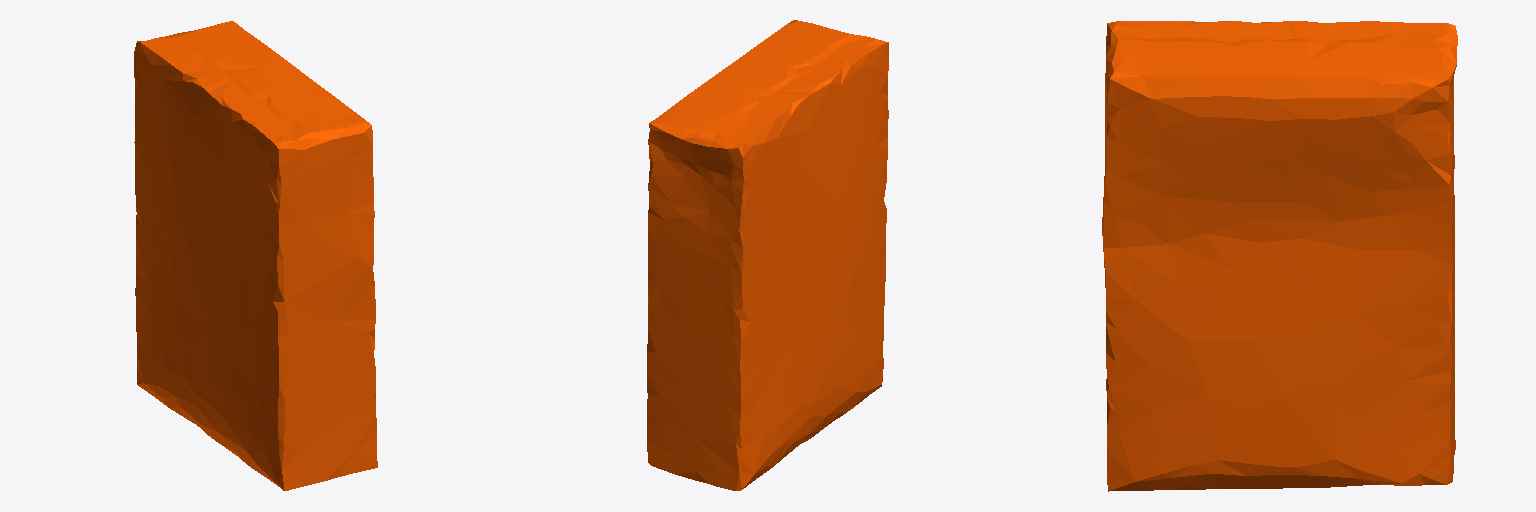
robot.urdf — 003_cracker_box:
<?xml version="1.0" ?>
<robot name="003_cracker_box">
   <material name="obj_color">
      <color rgba="1.0 0.423529411765 0.0392156862745 1.0"/>
   </material>
   <link name="top">
      <inertial>
         <origin rpy="0.0006040312572868979 0.001016337309011732 0.001447824631265488" xyz="-0.00252437242035967 -0.001755391139972788 -0.006070878990495147"/>
         <mass value="0.24875"/>
         <inertia ixx="0.001447724155100618" ixy="-2.001262632872254e-07" ixz="9.203997623671298e-06" iyy="0.001016316710181851" iyz="2.916835980718757e-06" izz="0.0006041523322816491"/>
      </inertial>
      <visual>
         <origin rpy="0 0 0" xyz="0 0 0"/>
         <geometry>
            <mesh filename="top_watertight_tiny.stl" scale="1 1 1"/>
         </geometry>
         <material name="obj_color"/>
      </visual>
      <collision>
         <origin rpy="0 0 0" xyz="0 0 0"/>
         <geometry>
            <mesh filename="top_watertight_tiny.obj" scale="1 1 1"/>
         </geometry>
      </collision>
   </link>
   <link name="bottom">
      <inertial>
         <origin rpy="1.633333333199431e-08 1.633333333199431e-08 1.633333333362855e-08" xyz="0.3464080000000008 0.3464080000000008 0.3464080000000008"/>
         <mass value="0.0009800000000000017"/>
         <inertia ixx="1.633333333253906e-08" ixy="5.447480642029219e-19" ixz="5.447480642029219e-19" iyy="1.633333333253906e-08" iyz="5.447480642029219e-19" izz="1.633333333253906e-08"/>
      </inertial>
      <visual>
         <origin rpy="0 0 0" xyz="0 0 0"/>
         <geometry>
            <mesh filename="bottom_watertight_tiny.stl" scale="1 1 1"/>
         </geometry>
         <material name="obj_color"/>
      </visual>
   </link>
   <link name="world"/>
   <joint name="world_to_base" type="fixed">
      <origin xyz="0 0 0"/>
      <axis xyz="0 0 0"/>
      <parent link="world"/>
      <child link="bottom"/>
   </joint>
   <joint name="rotation" type="revolute">
      <origin xyz="0 0 0"/>
      <axis xyz="0 0 -1"/>
      <parent link="bottom"/>
      <child link="top"/>
      <dynamics damping="1.0" friction="1.0"/>
      <limit effort="0.1" velocity="0.1" lower="0" upper="0.001"/>
   </joint>
</robot>

--- Render facts (derived) ---
3 views of the same robot in one strip: view 1: azimuth 30°, elevation 25°; view 2: azimuth 150°, elevation 25°; view 3: azimuth 270°, elevation 25° (orthographic).
Robot: 003_cracker_box — 3 links, 2 joints (1 revolute, 1 fixed); root link world; default pose: all joints at 0.
Links seen in each view (by area): view 1: top; view 2: top; view 3: top.
Link boxes in pixels (x1=…): top: x1=134, y1=21, x2=377, y2=490; top: x1=647, y1=20, x2=888, y2=490; top: x1=1102, y1=21, x2=1457, y2=491.
Bounding box of the posed robot: 0.0718 × 0.1638 × 0.2132 m (x, y, z).
Meshes: 2 distinct files referenced, 1 mesh visuals loaded (1 binary STL); not drawn: 1 (reference not matched to a file when rendering).